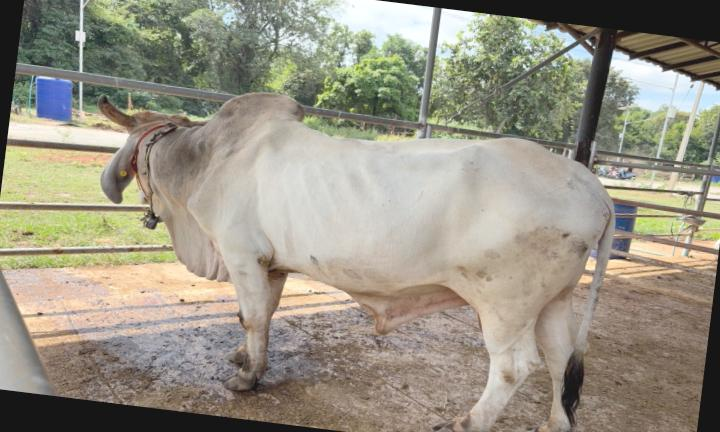Brahman: (98, 93, 615, 432)
